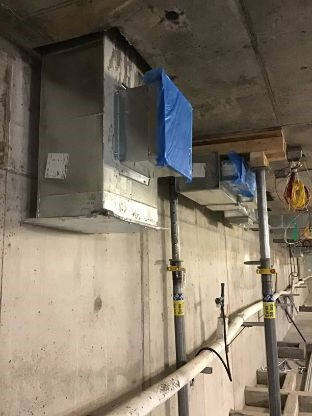Duct: (12, 18, 199, 249), (173, 146, 266, 228)
